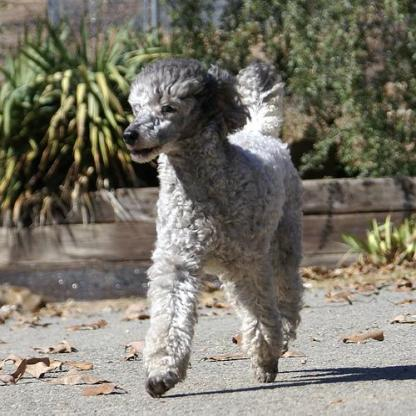miniature_poodle: (119, 53, 306, 397)
